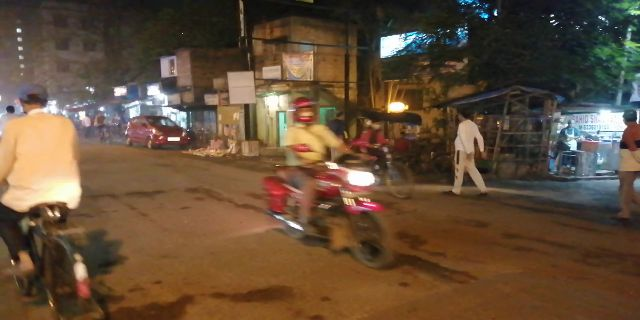Car: (124, 113, 193, 151)
Cycle: (4, 87, 106, 310)
Motorbike: (255, 92, 401, 270)
